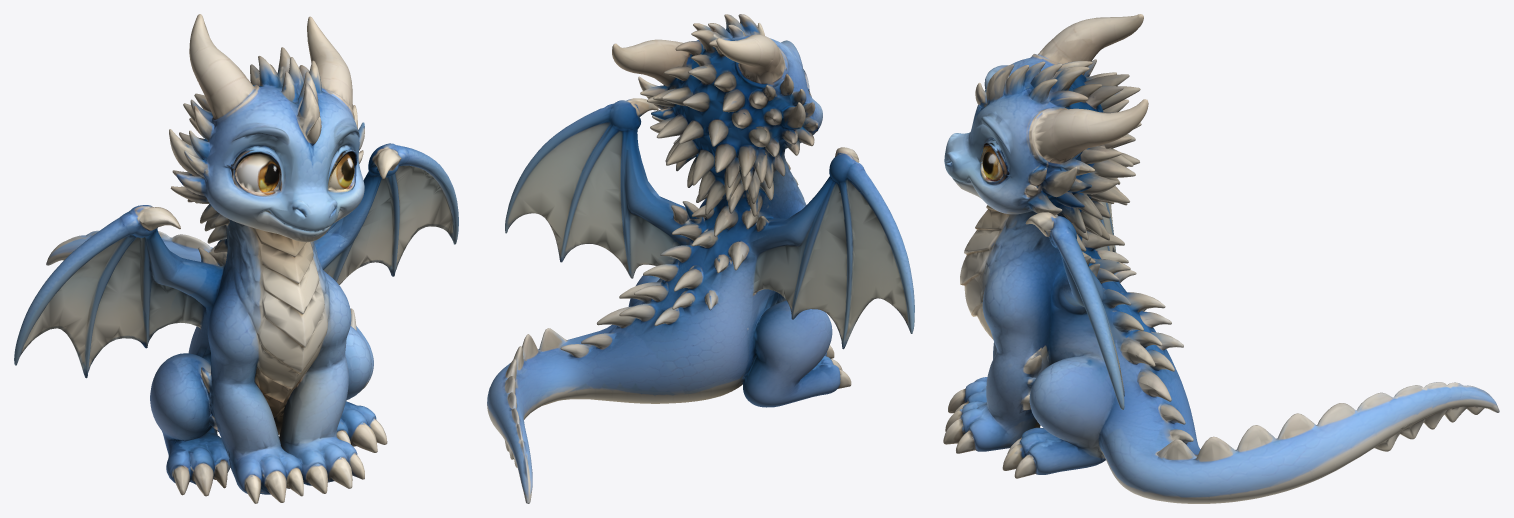
The model's file is comparison-hunyuan-pro.glb.
3 views of the same model, side by side, from view 1: azimuth 30°, elevation 25°; view 2: azimuth 150°, elevation 25°; view 3: azimuth 270°, elevation 25° (orthographic). The views are drawn at different scales.
Parts seen in each view (by area): view 1: node_0; view 2: node_0; view 3: node_0.
Part boxes in pixels (box(x1,y1,x2,y2)): node_0: box(14, 14, 458, 503); node_0: box(487, 14, 914, 503); node_0: box(943, 14, 1499, 503).
Size of the model in its own units: 0.8551 by 0.7615 by 0.9369.
1 material, 1 textured.
